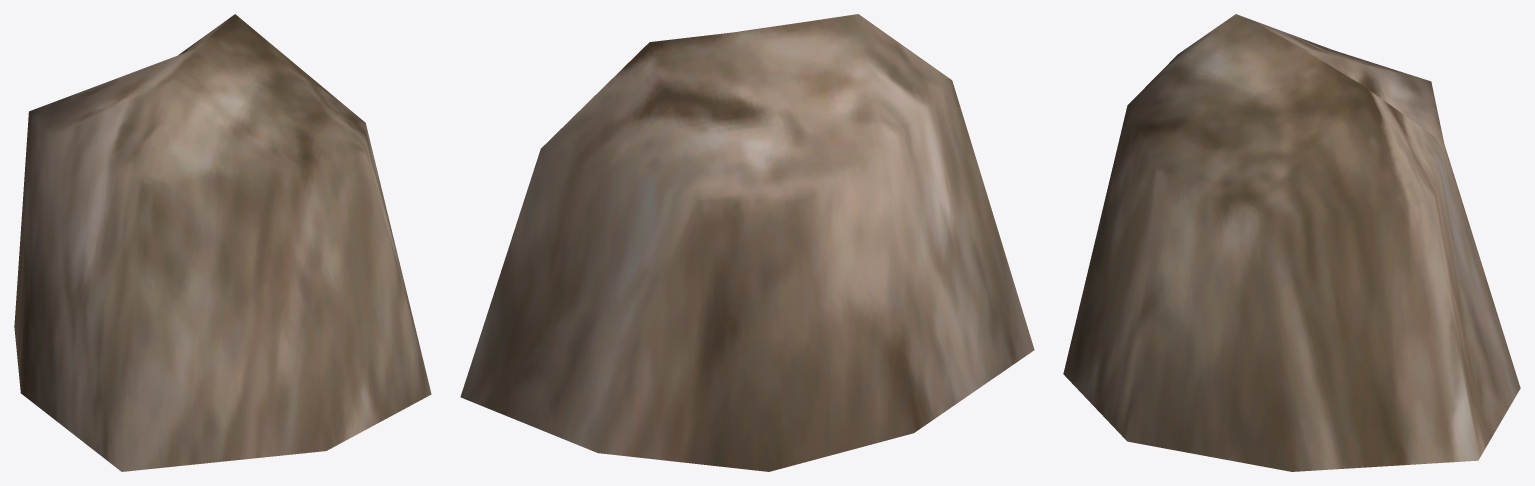
The model's file is OVERHILL_A_01_ROCK58.fbx.
3 renders of one model, left to right at view 1: azimuth 30°, elevation 25°; view 2: azimuth 150°, elevation 25°; view 3: azimuth 270°, elevation 25°, orthographic. The views are drawn at different scales.
Visible parts, largest first — view 1: OVERHILL_A_01_ROCK58; view 2: OVERHILL_A_01_ROCK58; view 3: OVERHILL_A_01_ROCK58.
Boxes of the visible parts, x1=… form: OVERHILL_A_01_ROCK58: x1=14, y1=14, x2=431, y2=471; OVERHILL_A_01_ROCK58: x1=460, y1=14, x2=1034, y2=471; OVERHILL_A_01_ROCK58: x1=1063, y1=14, x2=1520, y2=471.
Size of the model in its own units: 2706 by 2238 by 2844.
1 material, 1 textured.
